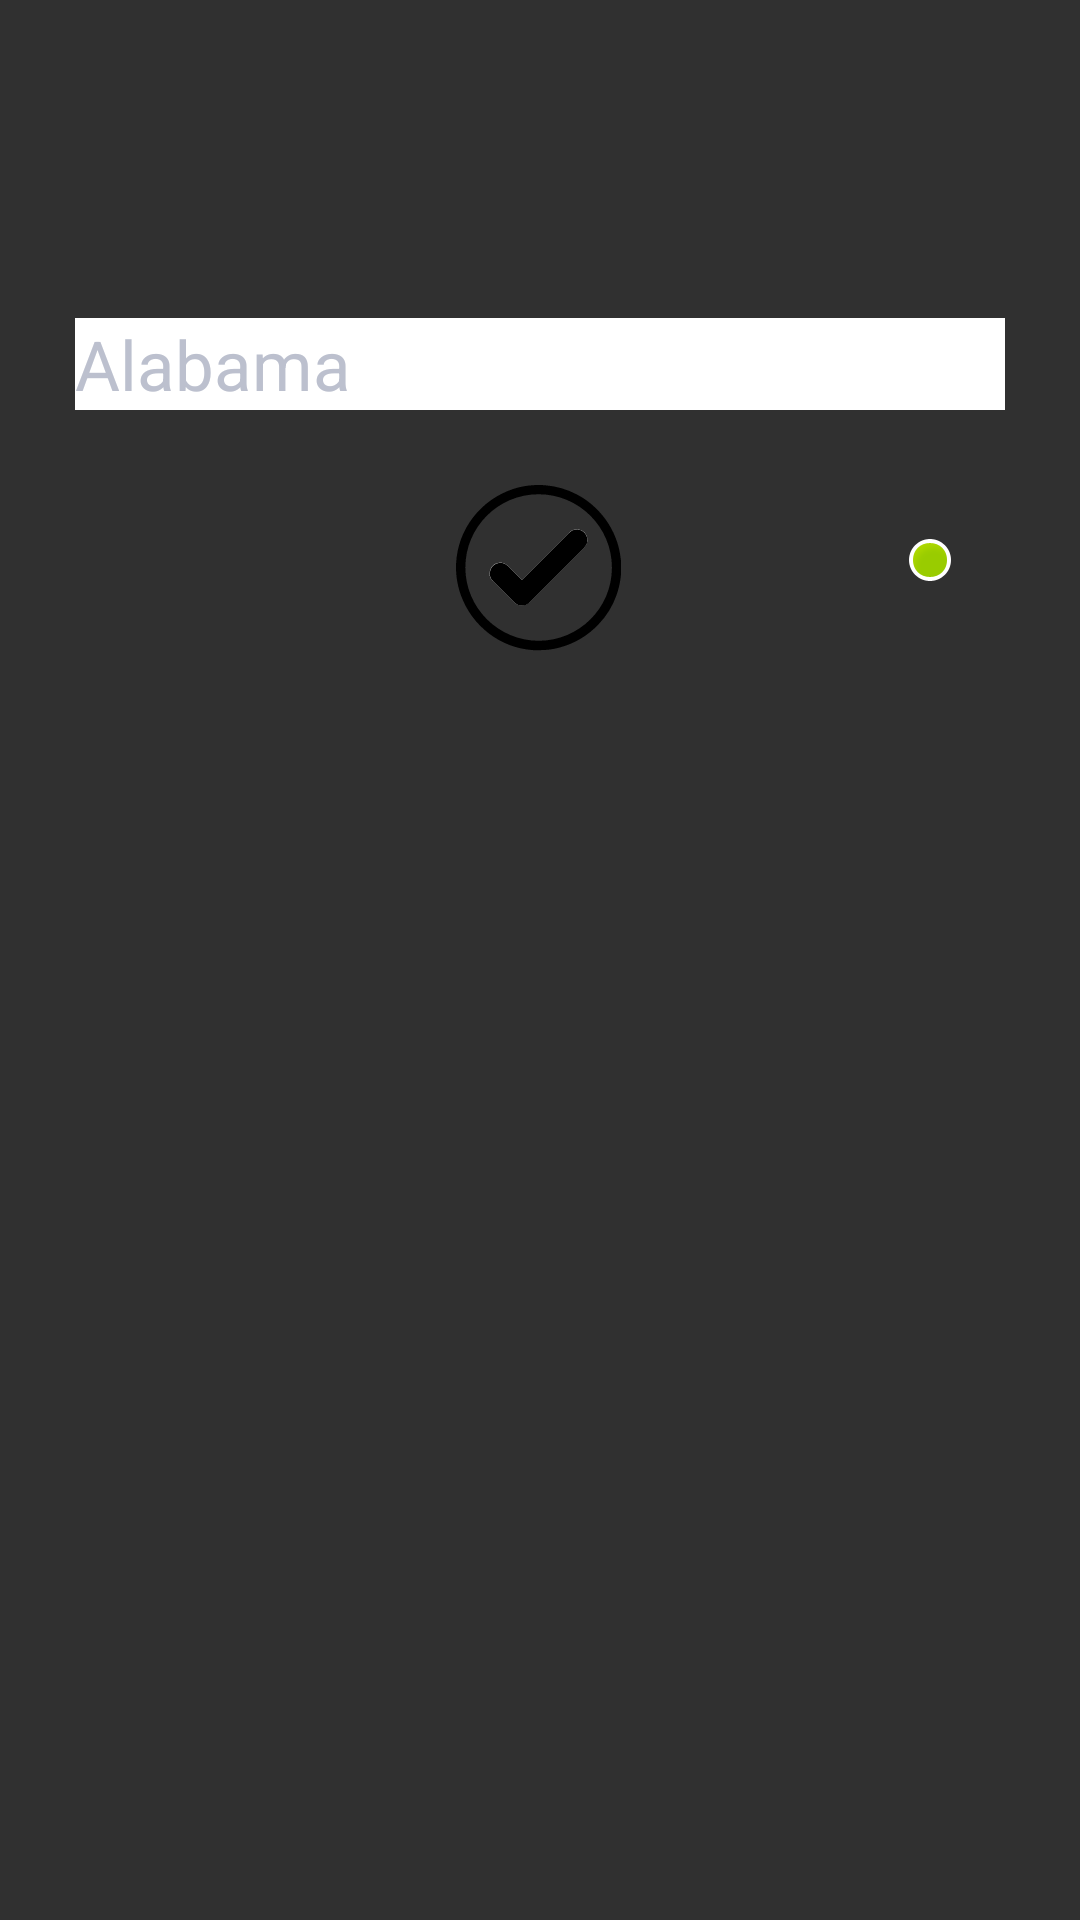

Locate icon controls on the screen. Image size 1080px×1920px, boxes as Rect(x1, y1, x2, y2).
presence online: Rect(909, 539, 951, 581)
